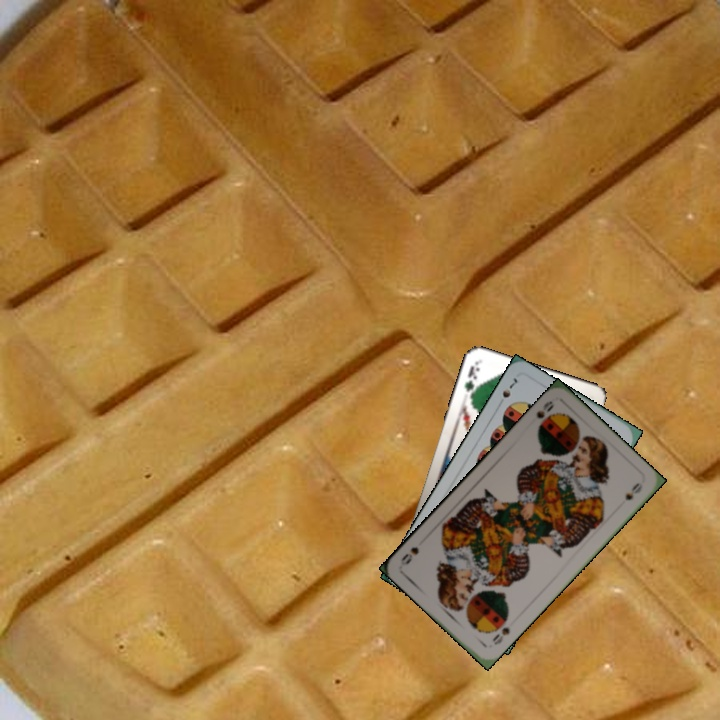GK: (460, 360, 482, 401)
S7: (493, 374, 520, 410)
SO: (532, 396, 557, 434), (488, 623, 512, 647)
